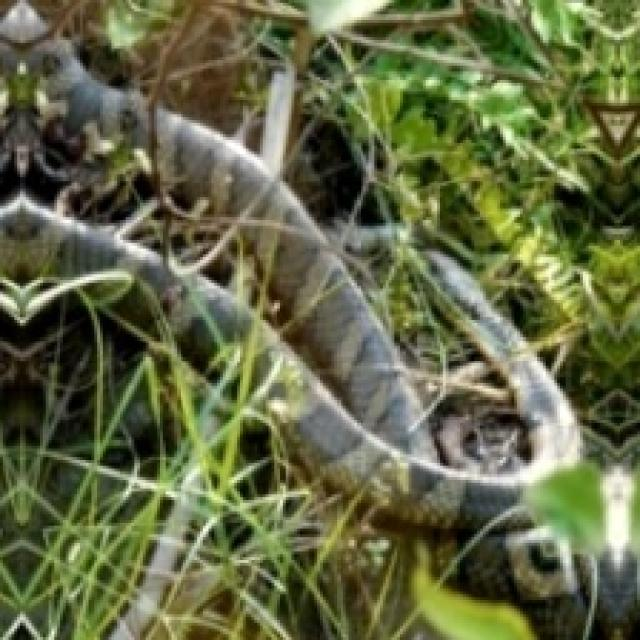king cobra: (0, 0, 637, 637), (517, 377, 611, 557), (517, 377, 606, 551)
